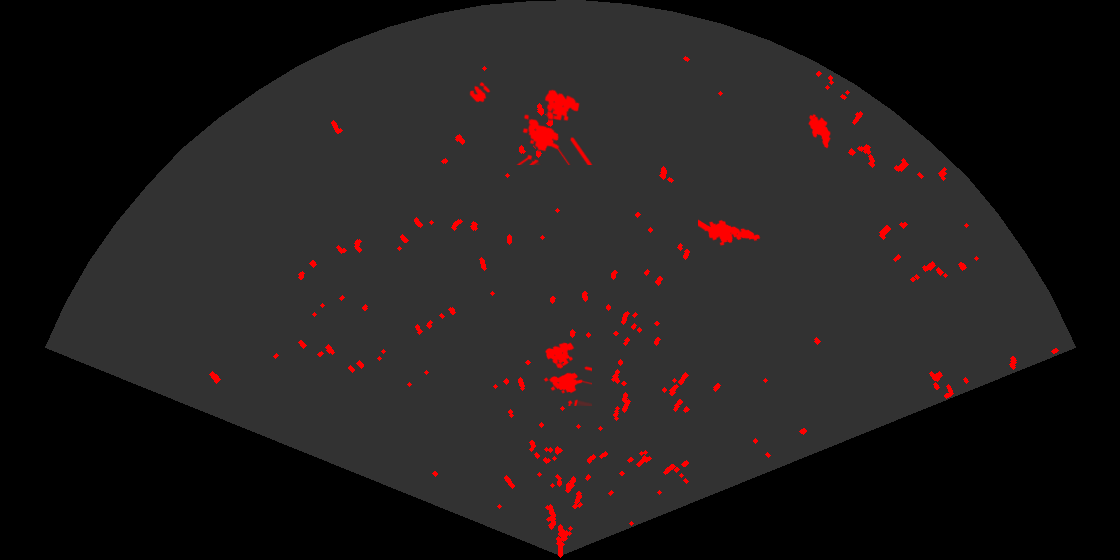AUV: (807, 112, 832, 150)
ball: (468, 80, 492, 104)
cage: (515, 88, 594, 165), (542, 341, 592, 406)
frogman: (698, 218, 762, 247)
